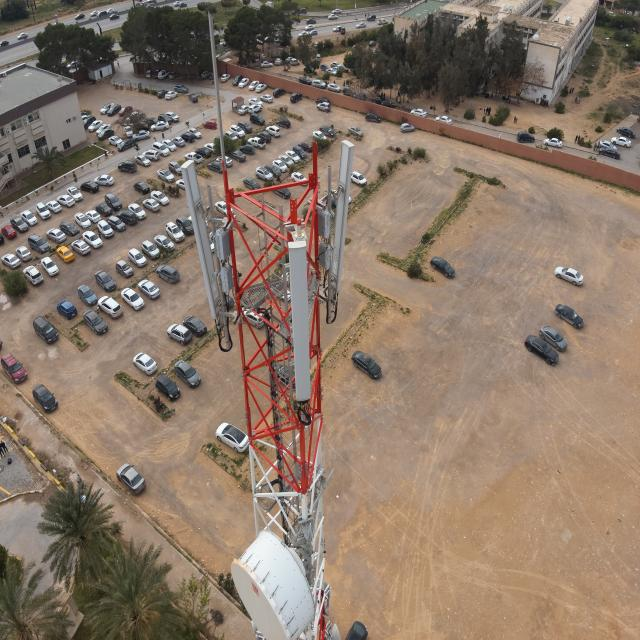Ground Based: (178, 15, 362, 640)
